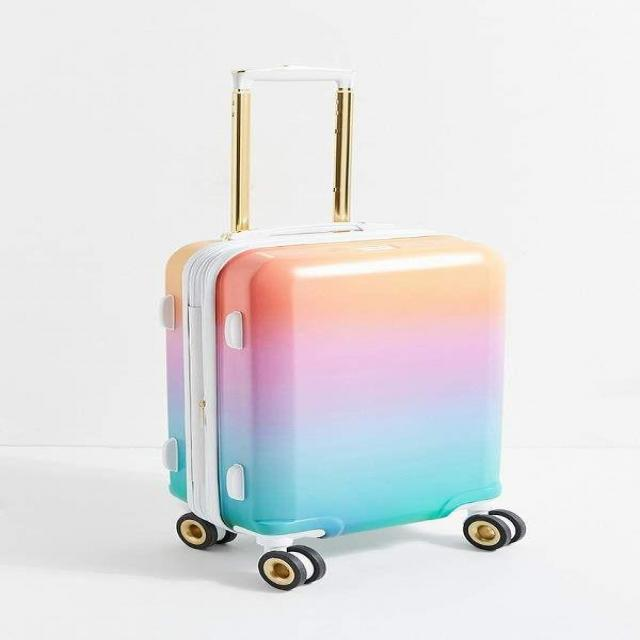luggage: (142, 212, 535, 596)
